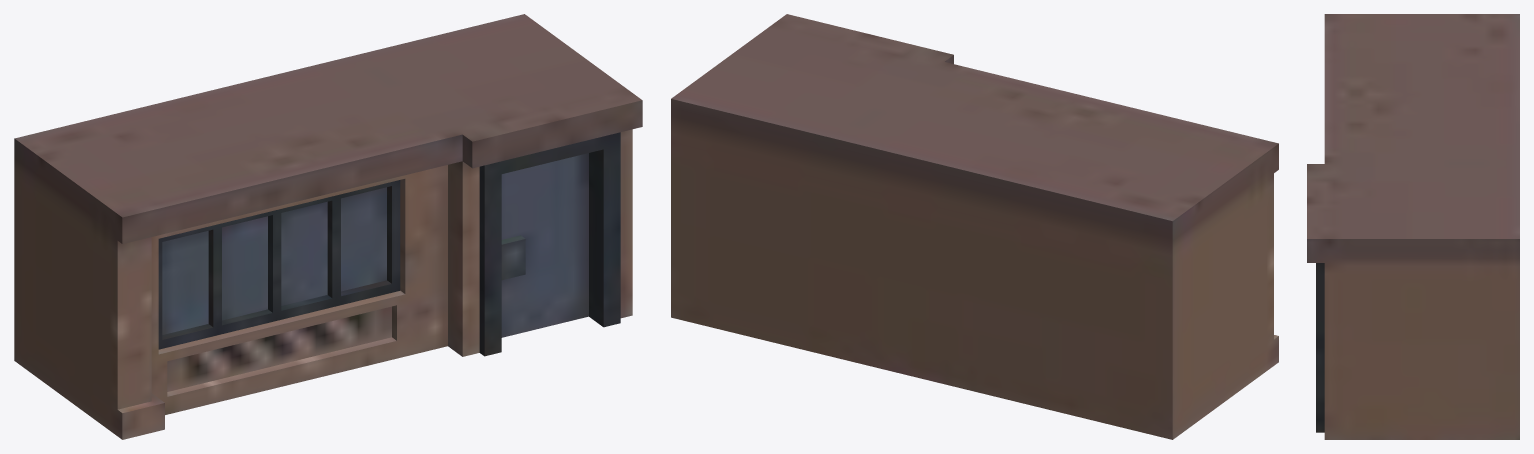
File: BuildingBlock_1.glb
The picture shows the model from 3 angles, left to right: view 1: azimuth 30°, elevation 25°; view 2: azimuth 150°, elevation 25°; view 3: azimuth 270°, elevation 25°; orthographic projection. The views are drawn at different scales.
Parts seen in each view (by area): view 1: BuildingBlock_1; view 2: BuildingBlock_1; view 3: BuildingBlock_1.
Boxes of the visible parts, <box> form: BuildingBlock_1: <box>14,14,642,439</box>; BuildingBlock_1: <box>671,14,1278,439</box>; BuildingBlock_1: <box>1307,14,1519,439</box>.
Size of the model in its own units: 6 by 2.5 by 2.4.
1 material, 1 textured.
